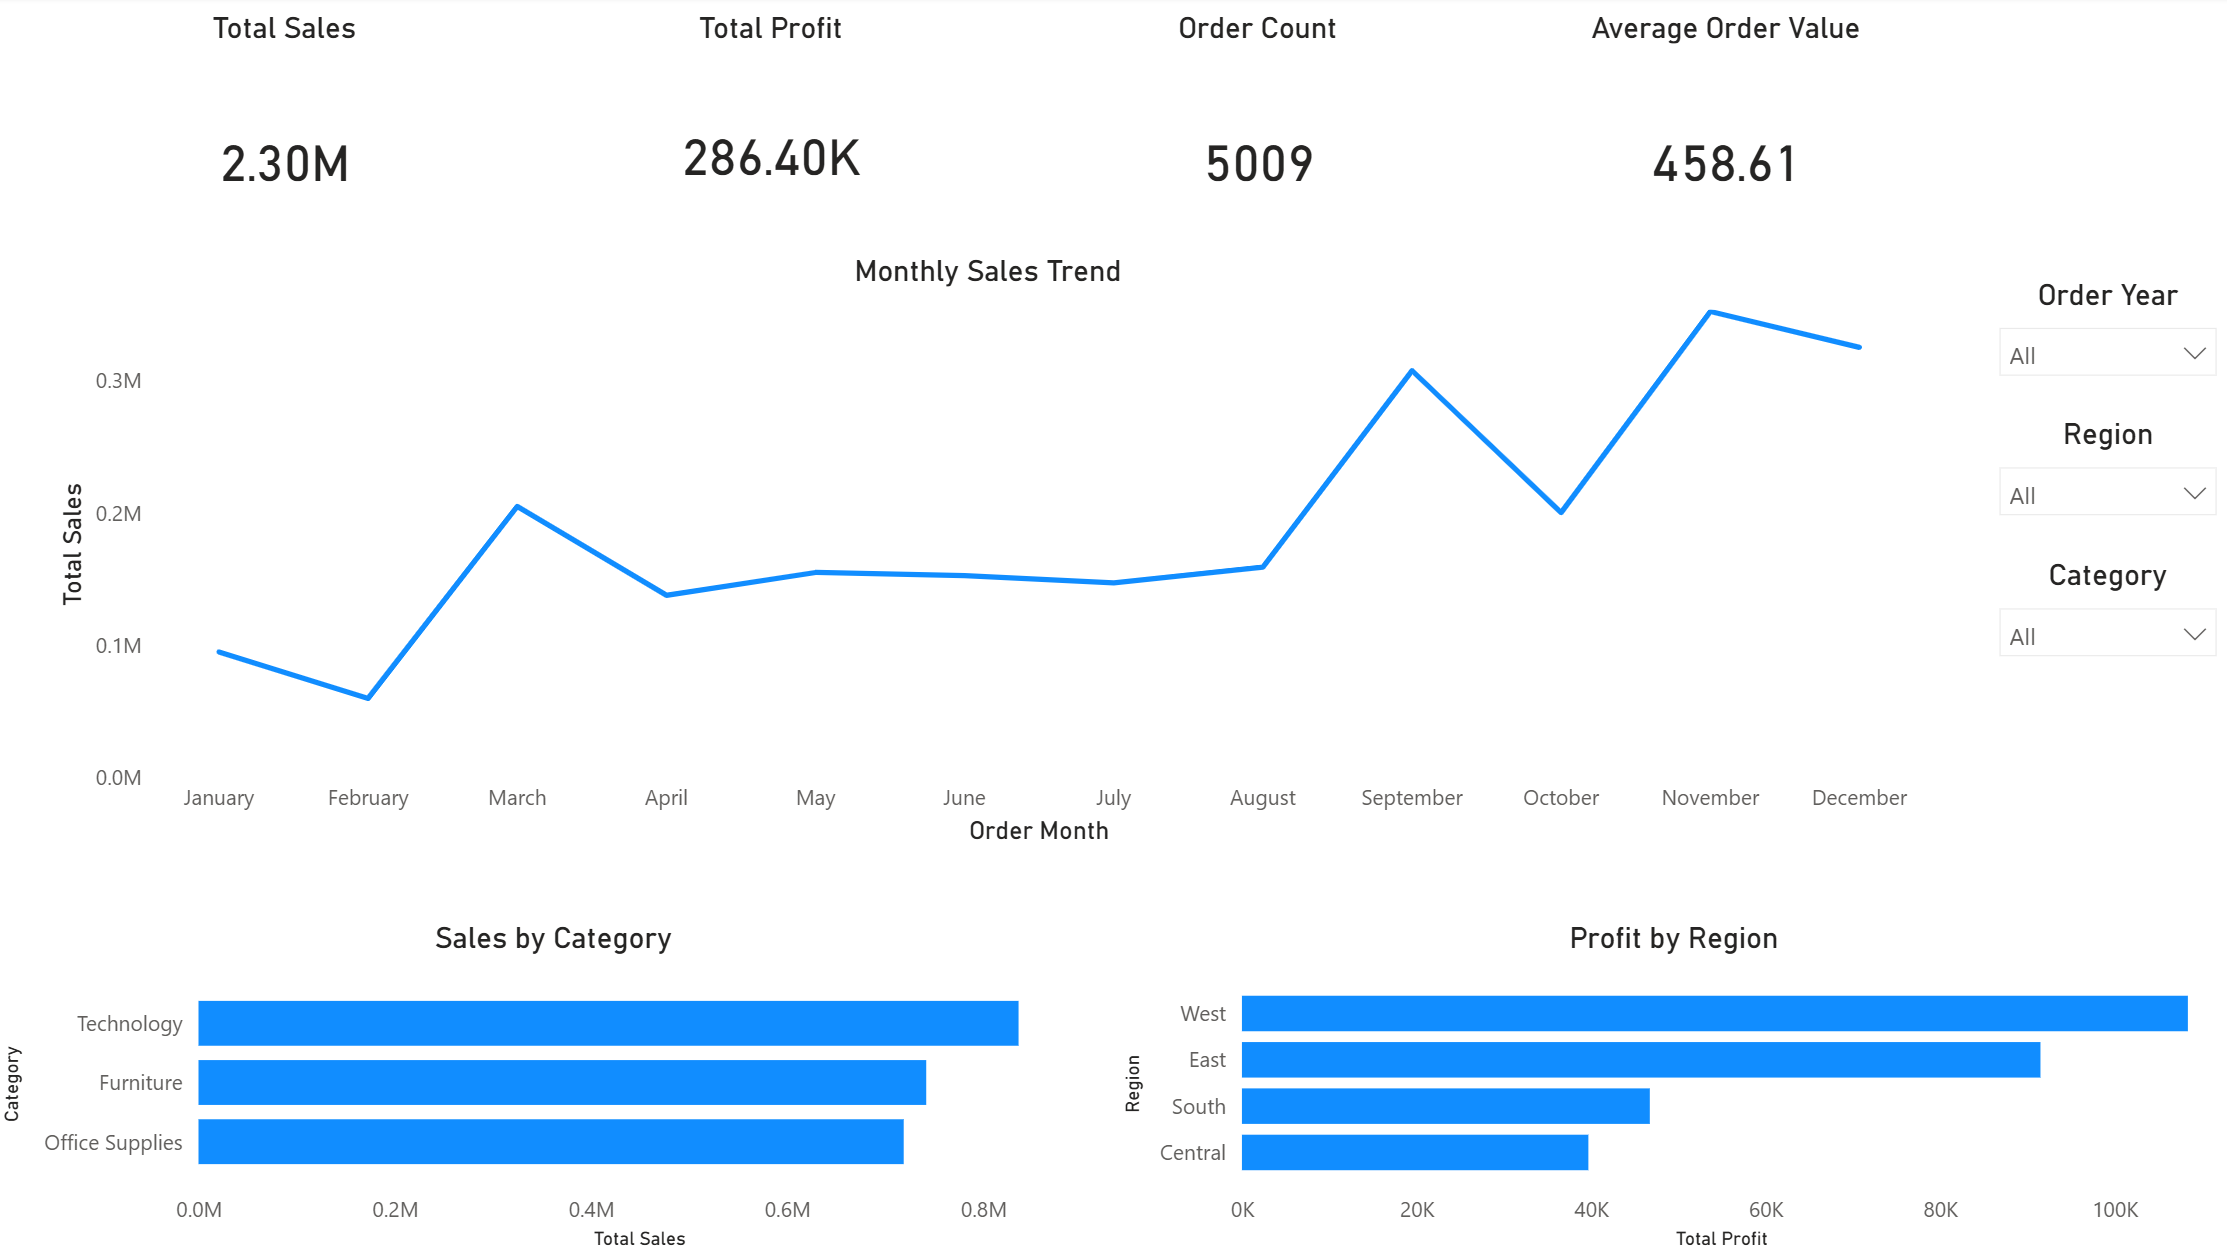

Layout of this report page (visuals, bound fields, positions):
{"tool":"powerbi","page":{"name":"Page 1","canvas":[1280,720],"ordinal":0},"visuals":[{"type":"card","title":"Total Sales","fields":{"Values":["All Measures.Total Sales"]},"box":[32.2,8,267.5,151.9],"z":0},{"type":"card","title":"Total Profit","fields":{"Values":["All Measures.Total Profit"]},"box":[299.7,8,288.7,144.8],"z":1000},{"type":"card","title":"Order Count","fields":{"Values":["All Measures.Order Count"]},"box":[588.4,8,267.5,151.9],"z":2000},{"type":"card","title":"Average Order Value","fields":{"Values":["All Measures.Average Order Value"]},"box":[855.9,8,267.5,151.9],"z":3000},{"type":"lineChart","title":"Monthly Sales Trend","fields":{"Category":["Sample - Superstore.Order Month"],"Y":["All Measures.Total Sales"]},"box":[31.9,146.6,1072.7,342.4],"z":4000},{"type":"clusteredBarChart","title":"Sales by Category","fields":{"Category":["Sample - Superstore.Category"],"Y":["All Measures.Total Sales"]},"box":[0,528,640,192],"z":5000},{"type":"clusteredBarChart","title":"Profit by Region","fields":{"Category":["Sample - Superstore.Region"],"Y":["All Measures.Total Profit"]},"box":[640,528,640,192],"z":6000},{"type":"slicer","title":"Order Year","fields":{"Values":["Sample - Superstore.Order Year"]},"box":[1136,160,144,80],"z":7000},{"type":"slicer","title":"Region","fields":{"Values":["Sample - Superstore.Region"]},"box":[1136,240,144,80],"z":8000},{"type":"slicer","title":"Category","fields":{"Values":["Sample - Superstore.Category"]},"box":[1136,320,144,80],"z":9000}]}

Visuals, with their boxes in screenshot pixels (x1, y1, x2, y2), scaled from the page's 1280x720 canvas onto the 2227x1254 screenshot:
"Total Sales" card: pyautogui.locateOnScreen(56, 14, 521, 278)
"Total Profit" card: pyautogui.locateOnScreen(521, 14, 1024, 266)
"Order Count" card: pyautogui.locateOnScreen(1024, 14, 1489, 278)
"Average Order Value" card: pyautogui.locateOnScreen(1489, 14, 1955, 278)
"Monthly Sales Trend" lineChart: pyautogui.locateOnScreen(56, 255, 1922, 852)
"Sales by Category" clusteredBarChart: pyautogui.locateOnScreen(0, 920, 1114, 1253)
"Profit by Region" clusteredBarChart: pyautogui.locateOnScreen(1114, 920, 2226, 1253)
"Order Year" slicer: pyautogui.locateOnScreen(1976, 279, 2226, 418)
"Region" slicer: pyautogui.locateOnScreen(1976, 418, 2226, 557)
"Category" slicer: pyautogui.locateOnScreen(1976, 557, 2226, 697)
